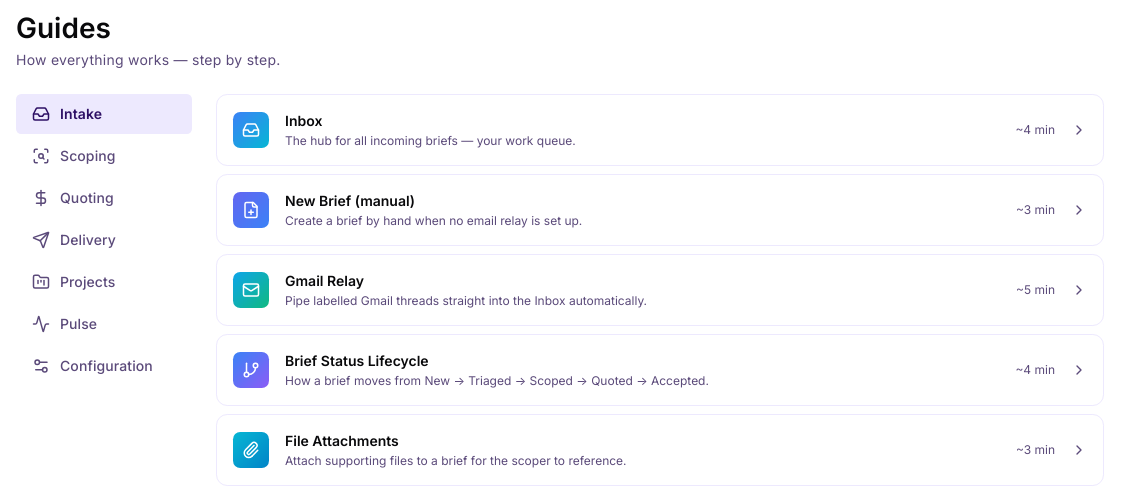
Scenario: GuidesPage › switches to the second deck when its button is clicked
Click the button "Scoping": (104, 156) 16,136 -> 192,176
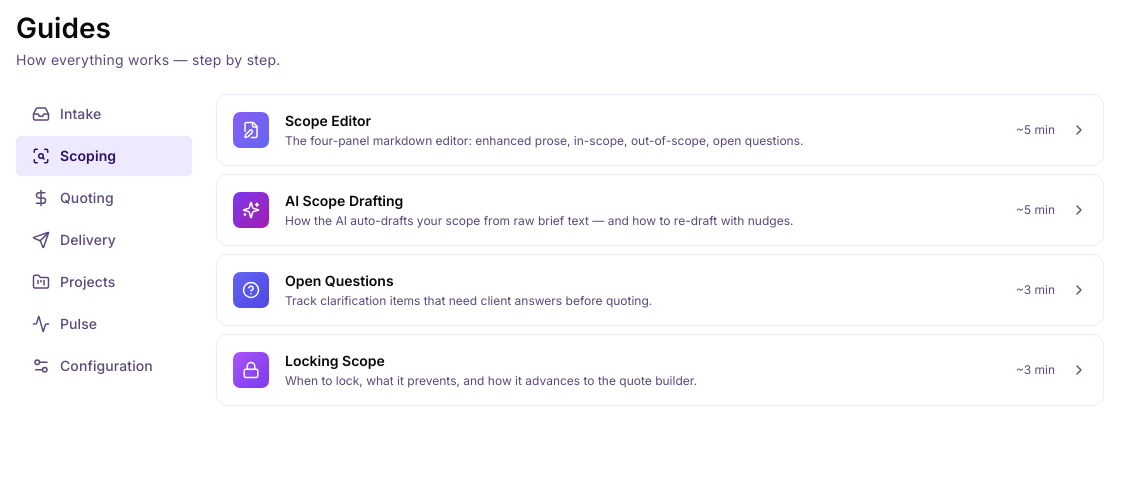
Now the text "Scope Editor" is shown, box 285,112 -> 371,129
Now the button "Inbox" is gone
